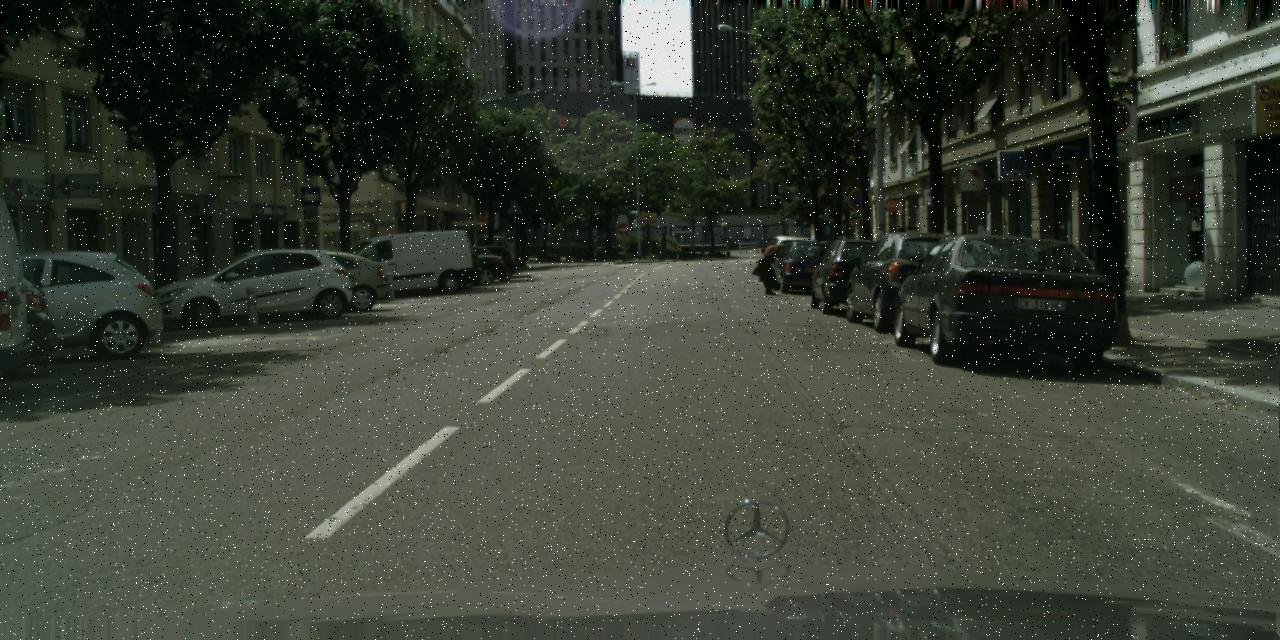ped: (938, 223, 962, 285), (764, 243, 785, 294), (658, 233, 668, 258)
